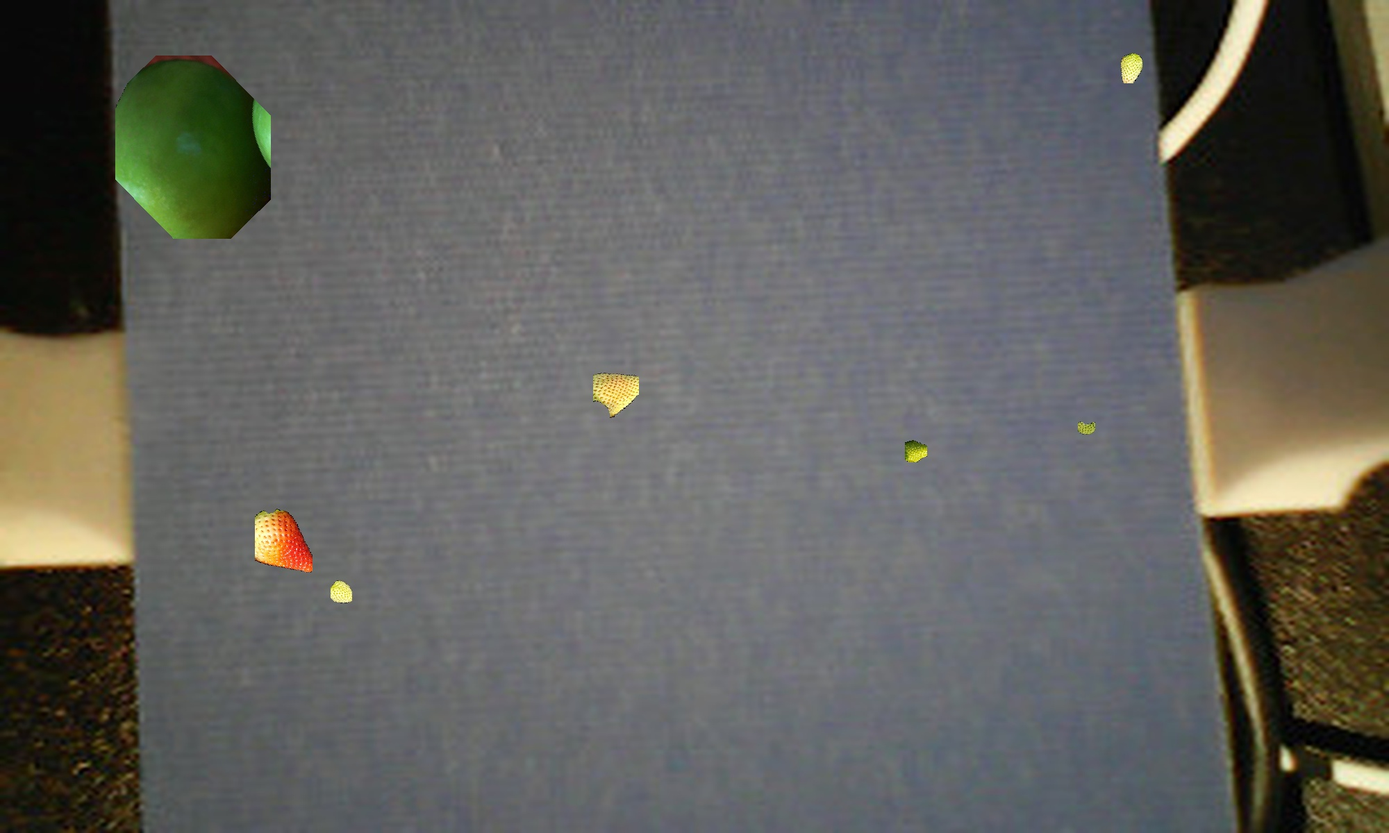not strawberry: (116, 58, 286, 243)
strawberry: (238, 504, 330, 581), (584, 361, 654, 420), (895, 438, 940, 464), (1120, 48, 1146, 84), (334, 567, 353, 613), (1074, 415, 1101, 437)
